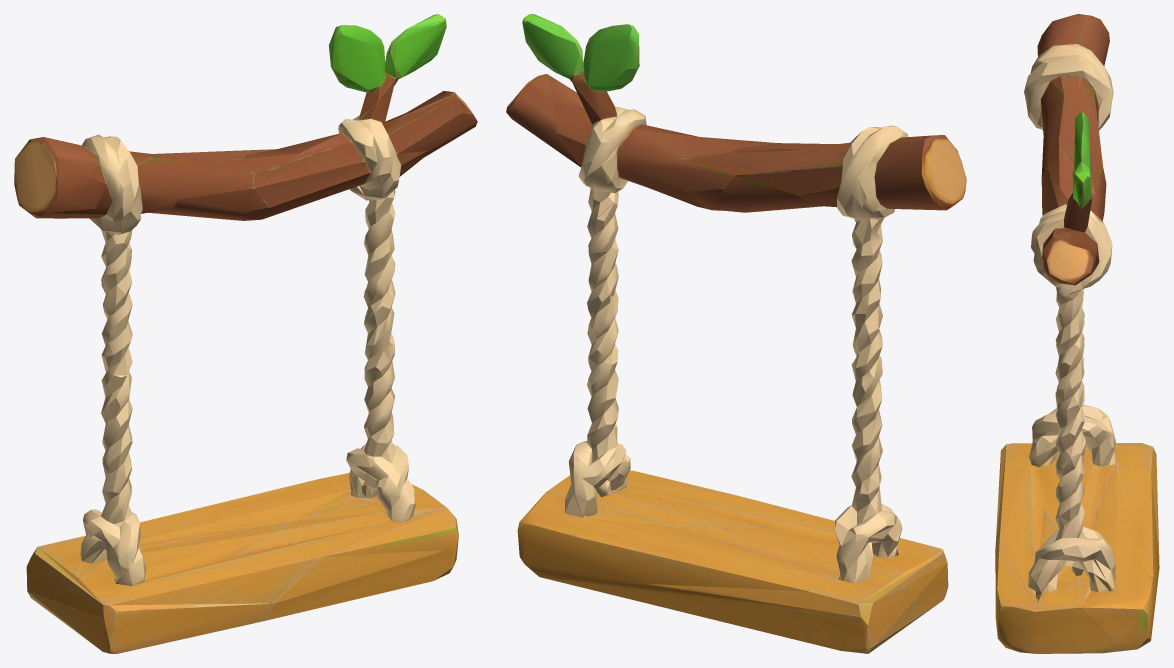
File: swing.glb
3 views of the same model, side by side, from view 1: azimuth 30°, elevation 25°; view 2: azimuth 150°, elevation 25°; view 3: azimuth 270°, elevation 25° (orthographic). The views are drawn at different scales.
Size of the model in its own units: 1.65 by 1.9 by 0.5586.
1 material, 1 textured.
